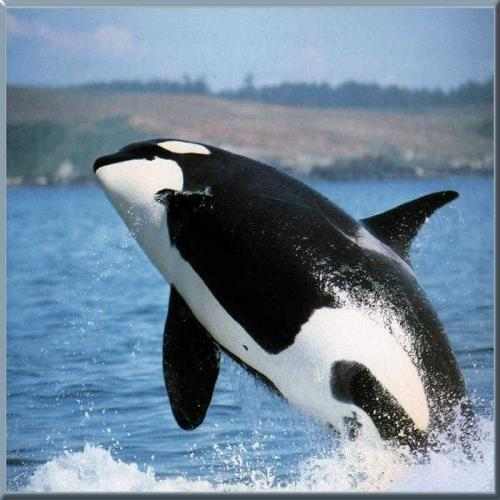killer_whale-endangered: (86, 122, 476, 456)
